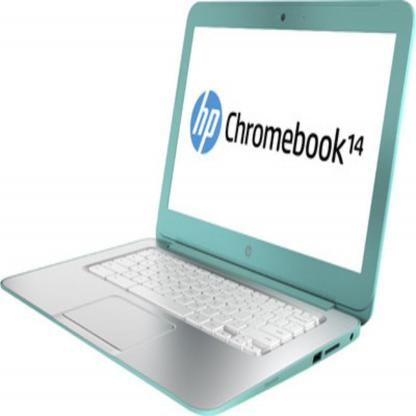board: (8, 11, 406, 413)
